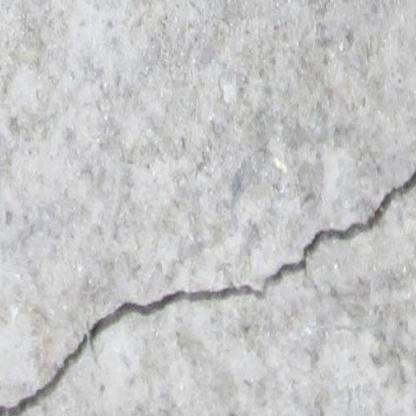Cracks: (0, 154, 416, 416)
